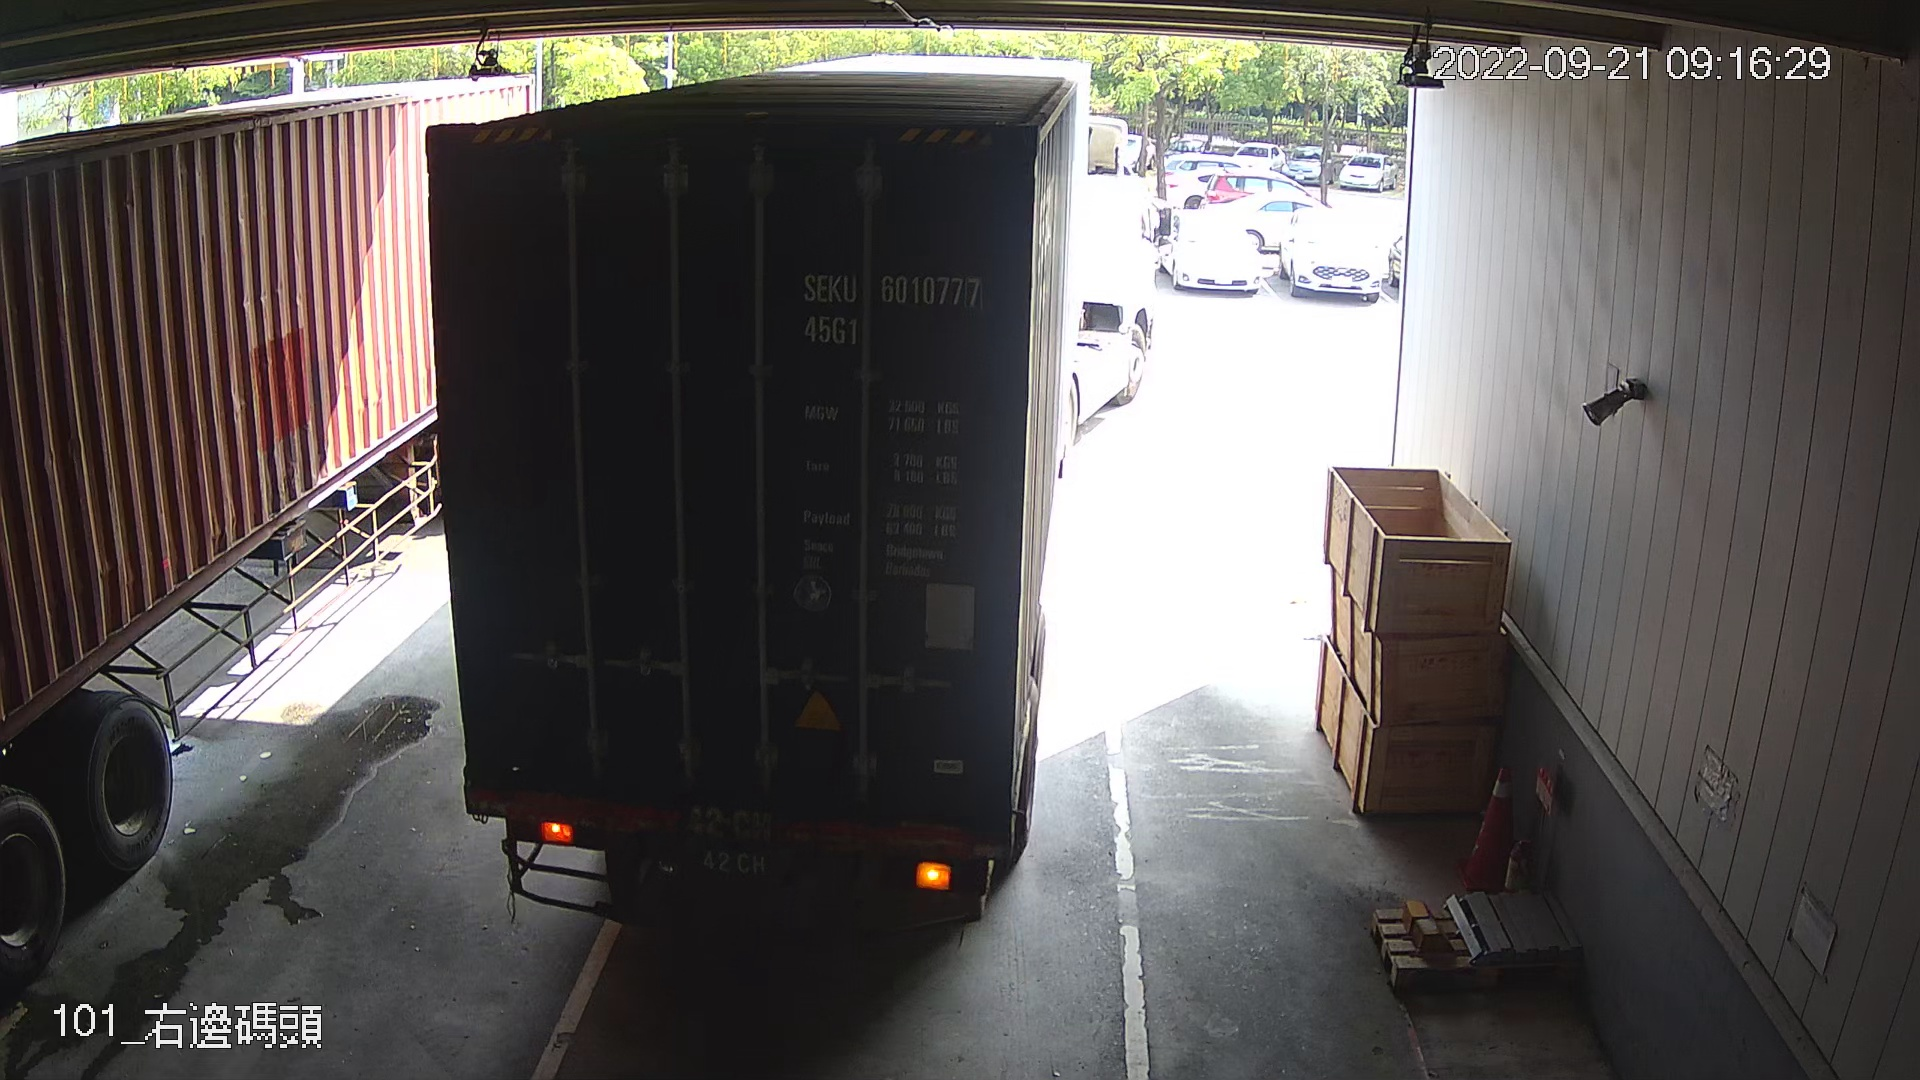container: (791, 264, 992, 357)
